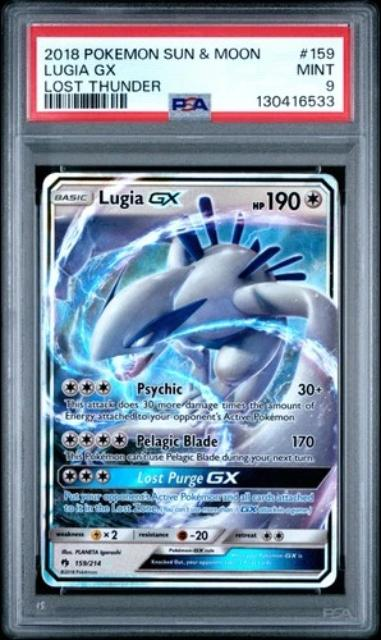Card: (37, 170, 343, 591)
Name: (93, 184, 186, 210)
